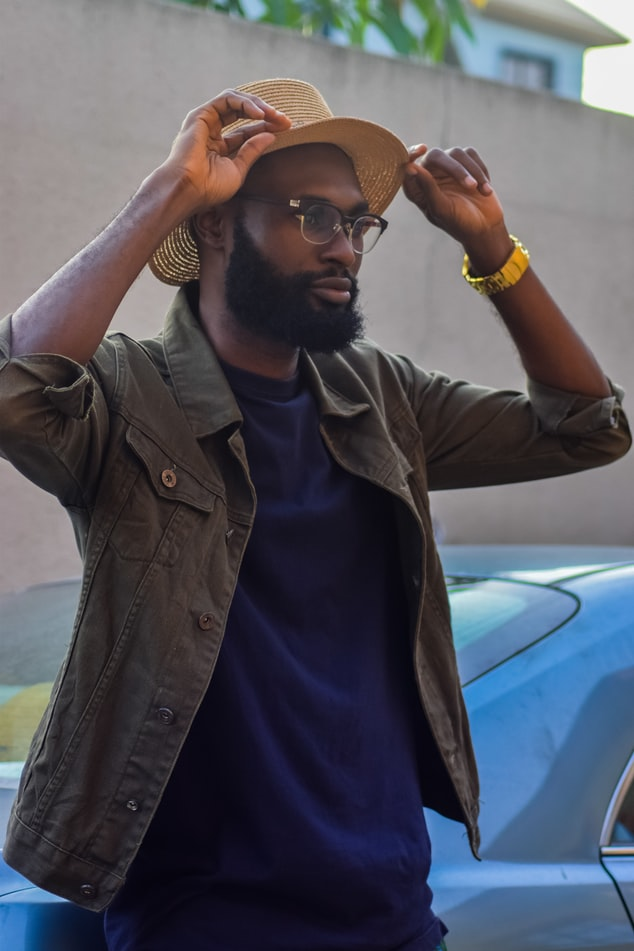beard: (217, 229, 375, 357)
glasses: (275, 199, 391, 258)
